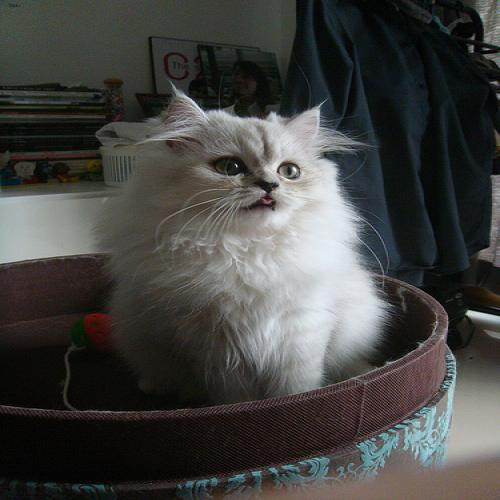persian: (132, 87, 347, 256)
